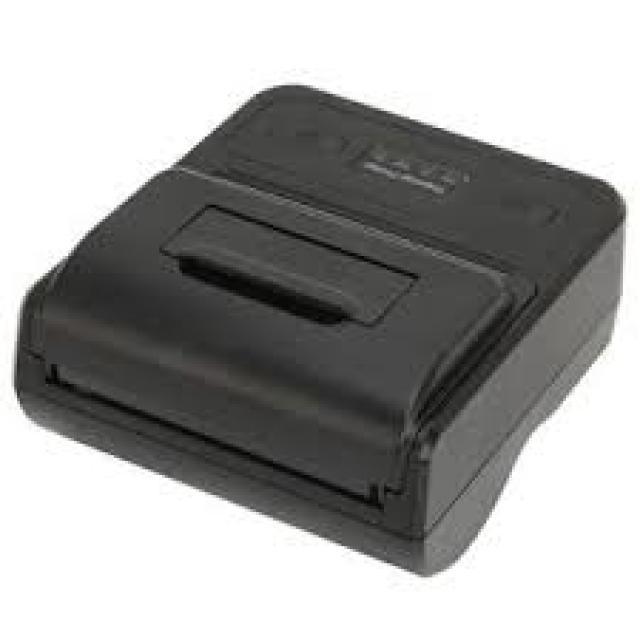printer: (11, 80, 626, 578)
